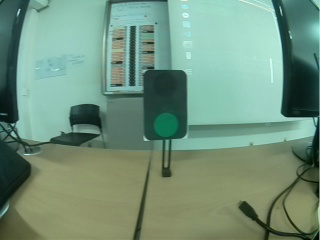green_light: (137, 68, 190, 142)
